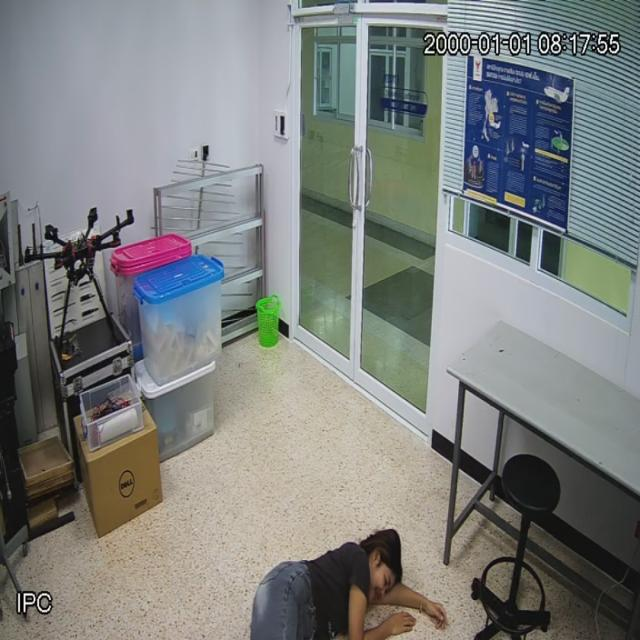fall: (233, 521, 429, 640)
